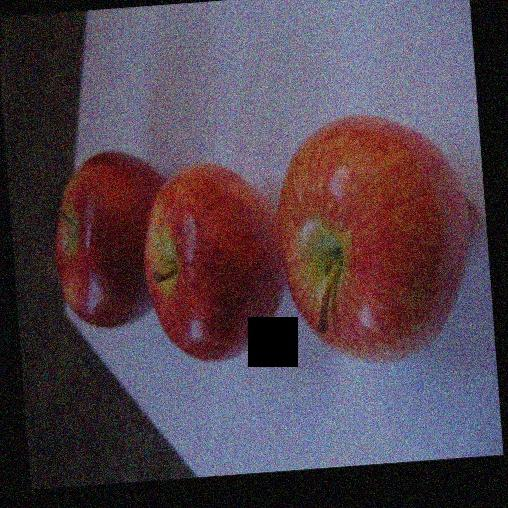red apple: (279, 114, 472, 364), (142, 155, 285, 360), (47, 147, 171, 331)
